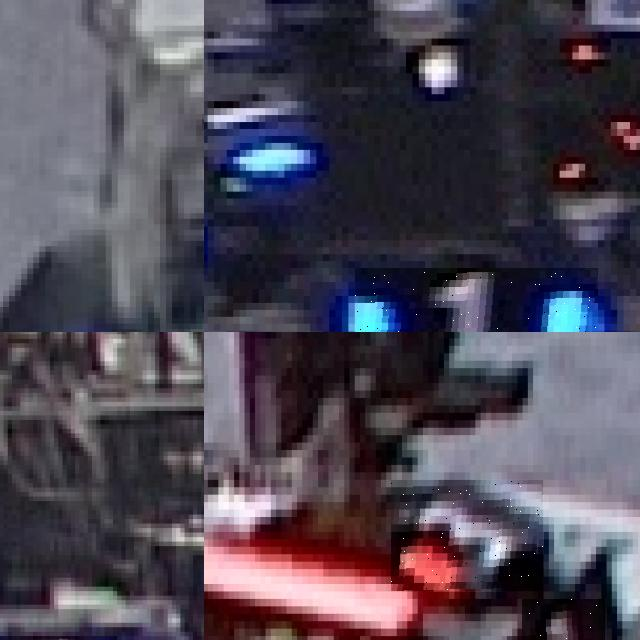B1: (355, 268, 598, 332), (204, 73, 316, 184)
R3: (392, 480, 544, 591), (522, 598, 606, 640)
